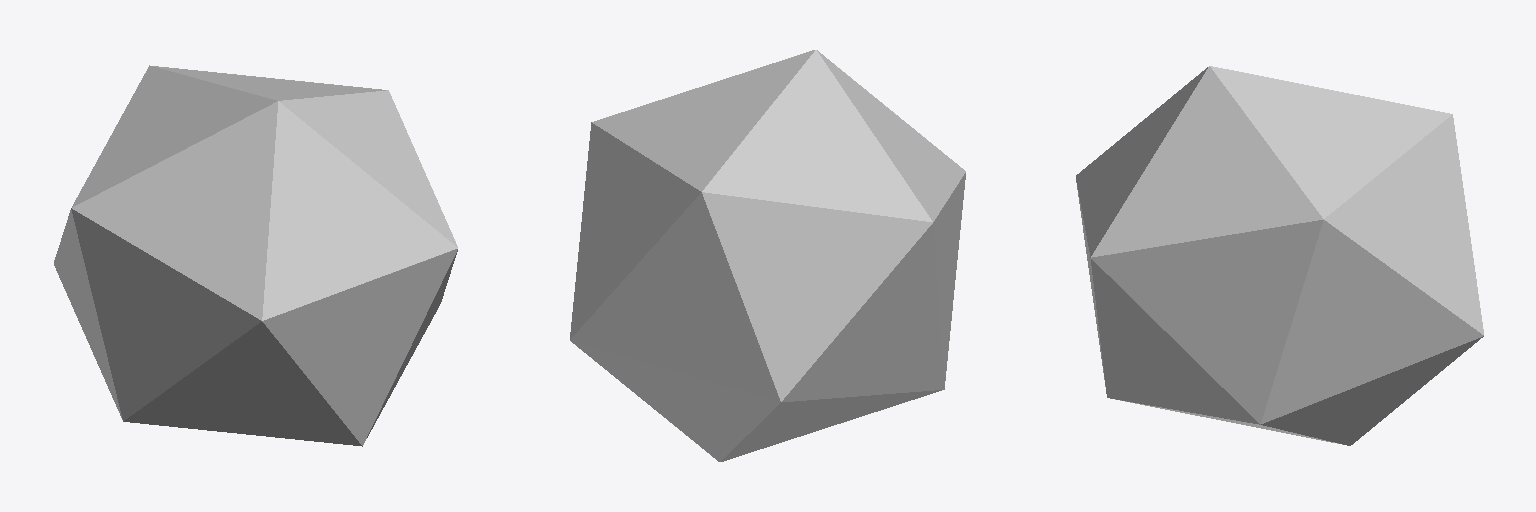
The model's file is IsraSwordGem.obj.
The picture shows the model from 3 angles: view 1: azimuth 30°, elevation 25°; view 2: azimuth 150°, elevation 25°; view 3: azimuth 270°, elevation 25°; orthographic projection.
Parts seen in each view (by area): view 1: IsraSwordGem; view 2: IsraSwordGem; view 3: IsraSwordGem.
Boxes of the visible parts, <box> form: IsraSwordGem: <box>54,65,457,446</box>; IsraSwordGem: <box>570,50,965,461</box>; IsraSwordGem: <box>1076,66,1483,445</box>.
Size of the model in its own units: 0.1227 by 0.1232 by 0.1241.